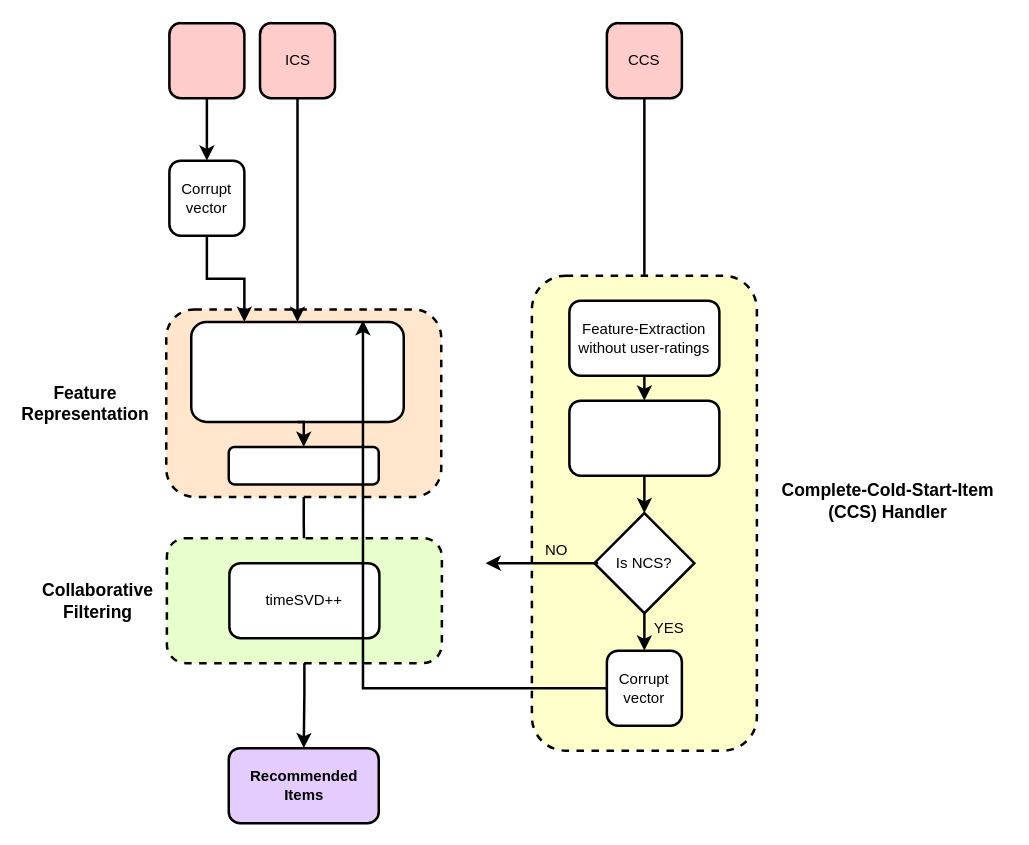
Image size: 1029x845. Some labels were removed from this diagram. The centre of each missing label's shape, as x and y in pixels:
"AutoEncoder" belongs at point (296, 371).
"Find similar item on SIMDATABASE" belongs at point (644, 437).
"Latent Vector" belongs at point (303, 465).
"NCS" belongs at point (206, 60).
